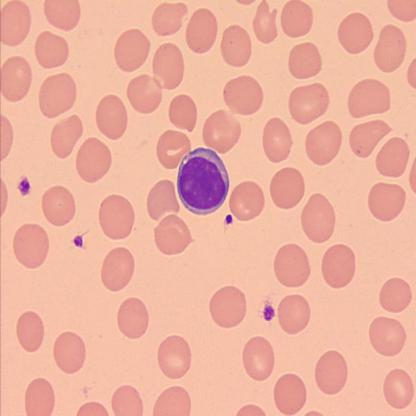Lymphocyte: (176, 146, 230, 217)
